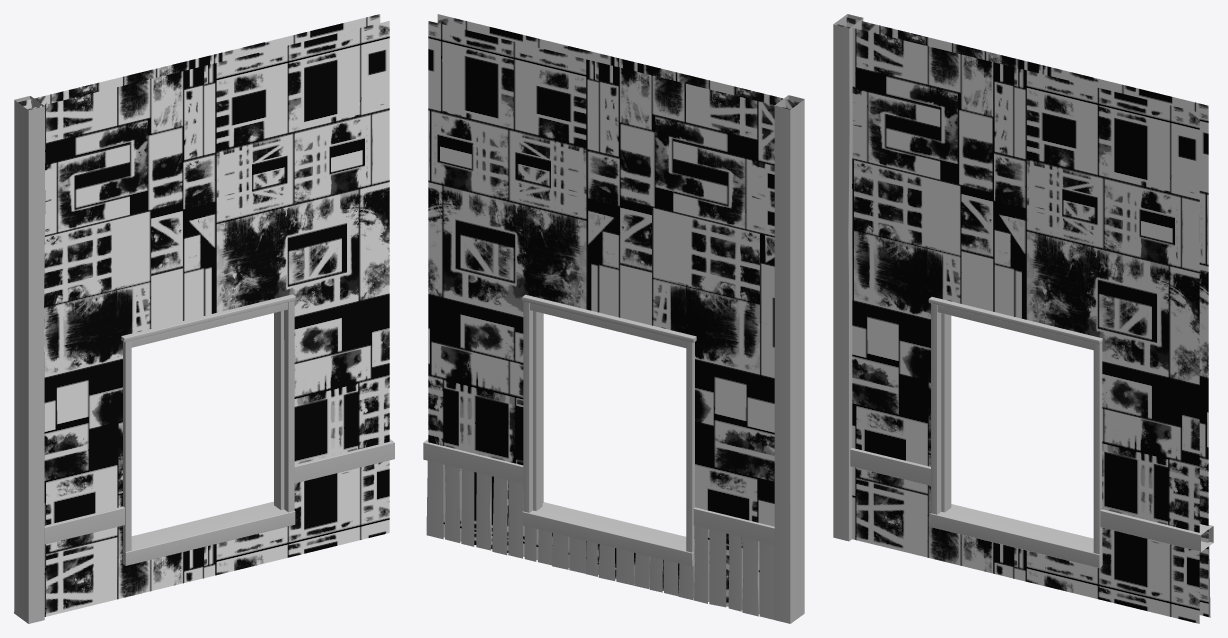
File: SM_wall01_Wall_013.fbx
The picture shows the model from 3 angles, left to right: view 1: azimuth 30°, elevation 25°; view 2: azimuth 150°, elevation 25°; view 3: azimuth 330°, elevation 25°; orthographic projection.
Parts seen in each view (by area): view 1: SM_wall01_Wall_013_LOD0; view 2: SM_wall01_Wall_013_LOD0; view 3: SM_wall01_Wall_013_LOD0.
Part boxes in pixels (x1,y1,x2,y2): SM_wall01_Wall_013_LOD0: (14,14,394,623); SM_wall01_Wall_013_LOD0: (423,14,804,623); SM_wall01_Wall_013_LOD0: (833,14,1213,623).
Size of the model in its own units: 456 by 33.39 by 611.
